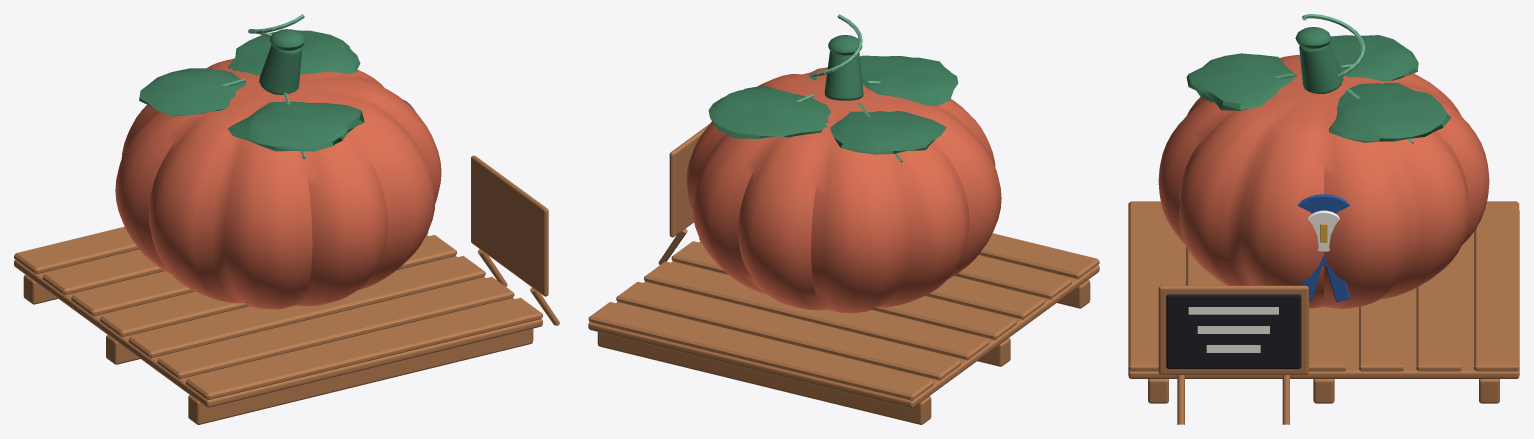
Rendered from prize_pumpkin.glb.
The picture shows the model from 3 angles, left to right: view 1: azimuth 30°, elevation 25°; view 2: azimuth 150°, elevation 25°; view 3: azimuth 270°, elevation 25°; orthographic projection. The views are drawn at different scales.
Parts seen in each view (by area): view 1: prize_pumpkin; view 2: prize_pumpkin; view 3: prize_pumpkin.
Part boxes in pixels (bbox=[...]): prize_pumpkin: bbox=[14, 14, 559, 424]; prize_pumpkin: bbox=[588, 14, 1099, 424]; prize_pumpkin: bbox=[1128, 14, 1519, 424].
Size of the model in its own units: 2.92 by 2.3 by 2.6.
1 material, 1 textured.
